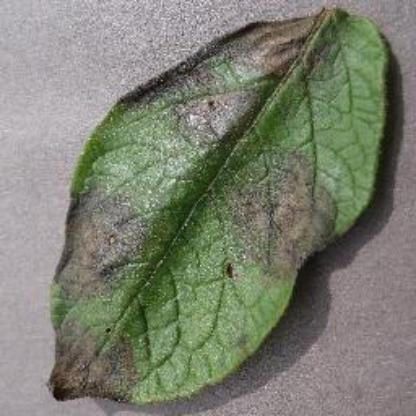Late-Blight: (46, 6, 398, 406)
